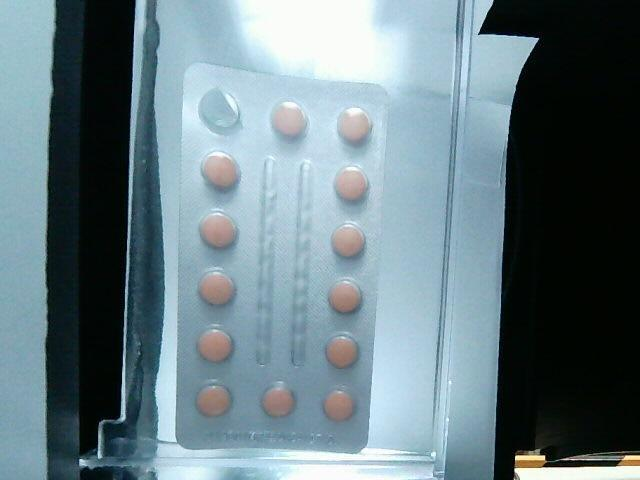Light Front: (176, 64, 386, 452)
No Pill Front: (194, 84, 246, 134)
Pill Front: (196, 150, 243, 196), (267, 97, 312, 144), (327, 164, 372, 208), (198, 265, 240, 310), (191, 378, 236, 420), (325, 275, 367, 319), (194, 324, 236, 368), (332, 106, 375, 148), (198, 208, 239, 252), (258, 377, 300, 418), (321, 387, 361, 424), (323, 332, 361, 370), (330, 222, 366, 262)
